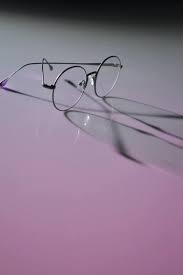spectacles: (23, 50, 127, 114)
